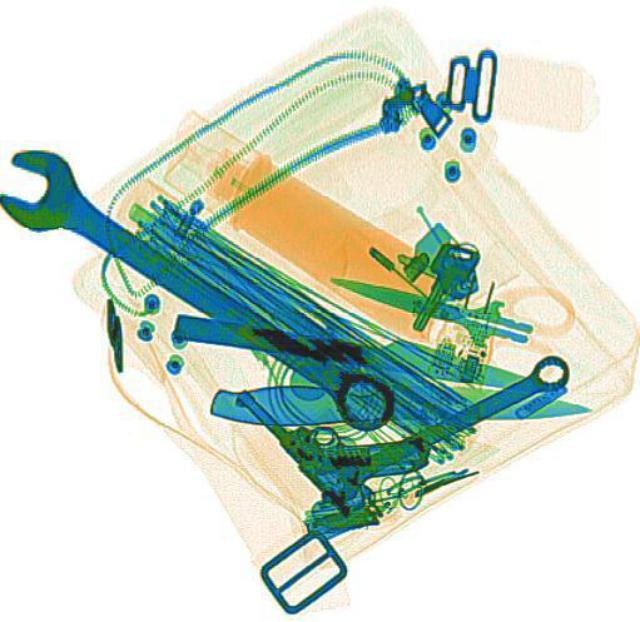Gun: (229, 330, 433, 519)
Knife: (169, 300, 563, 400), (322, 256, 536, 354), (206, 377, 590, 431)
Wrench: (0, 151, 409, 441), (302, 347, 576, 504)
